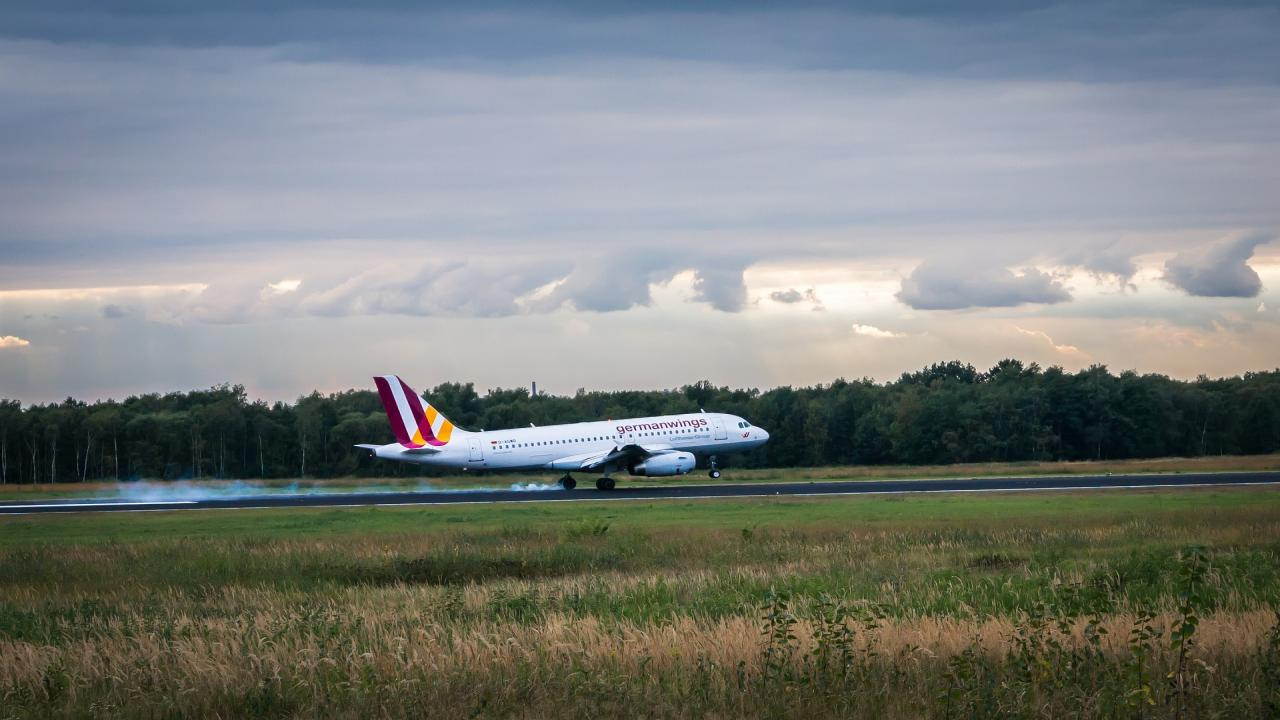Airplane: (334, 358, 790, 503)
